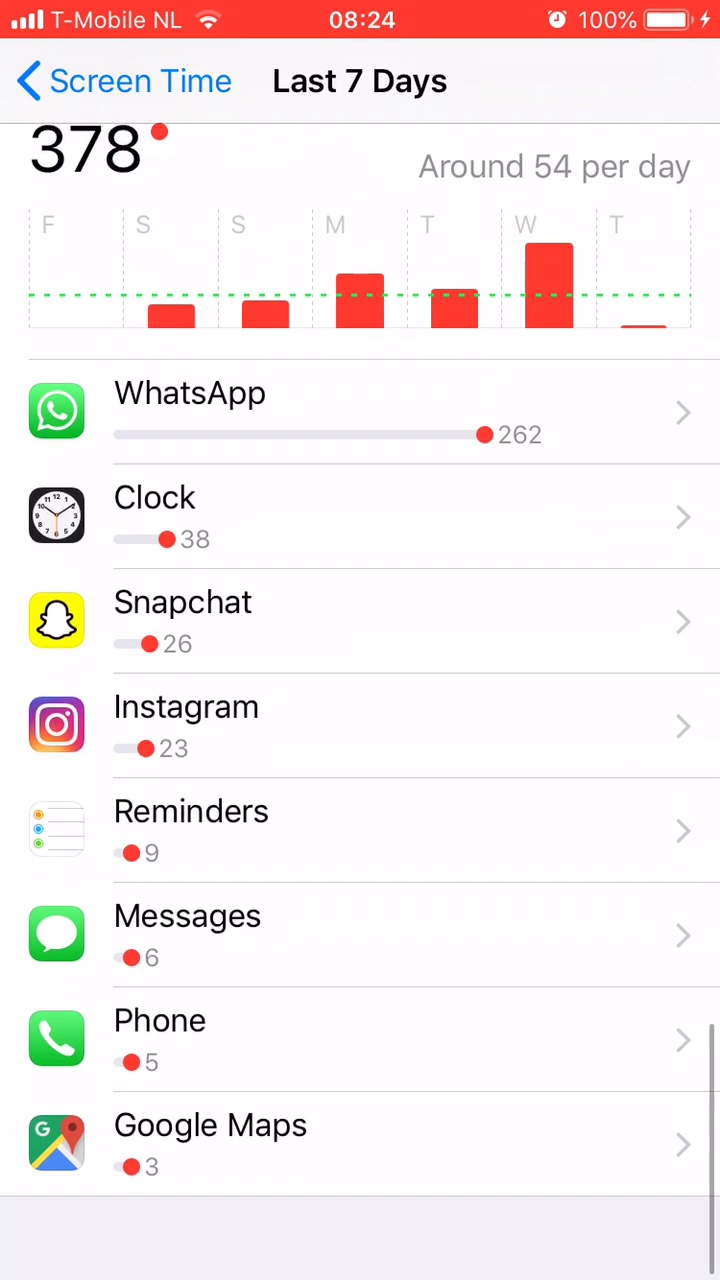not_app: (21, 360, 592, 464), (14, 1097, 330, 1192), (17, 789, 315, 883), (14, 891, 297, 989), (21, 577, 305, 674), (15, 992, 324, 1081), (20, 687, 295, 778), (20, 471, 242, 569)
week: (260, 60, 464, 107)
